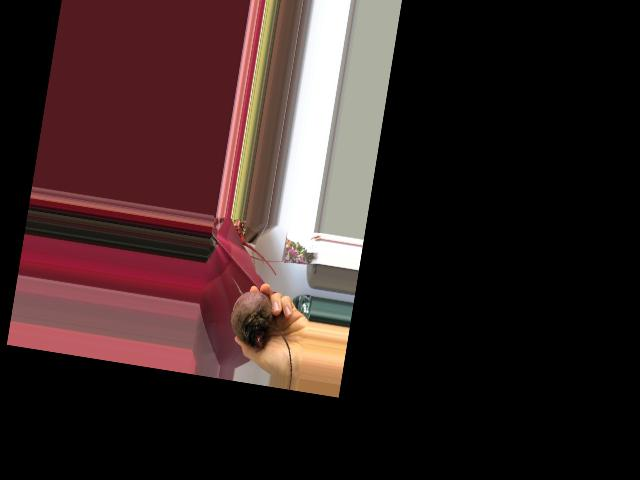beet: (216, 275, 306, 376)
